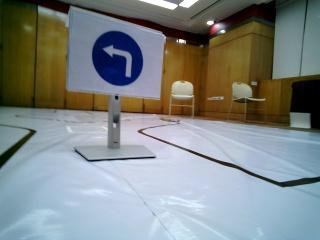left: (68, 13, 158, 102)
